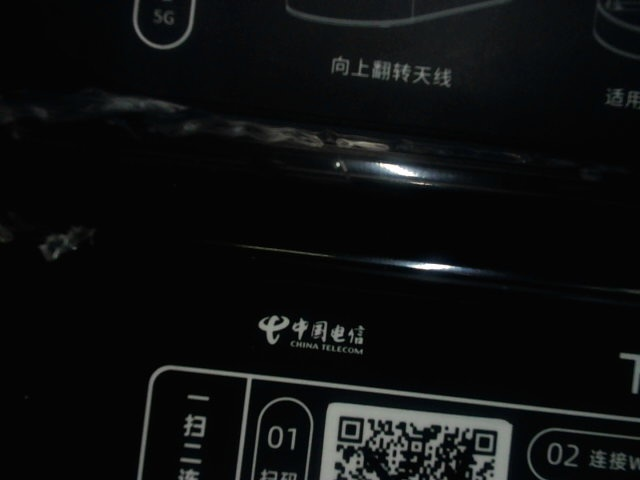AB_ChinaTelecom: (246, 306, 372, 361)
